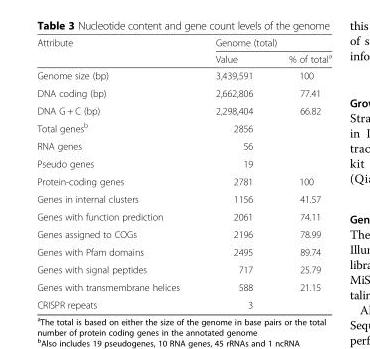table: (36, 36, 331, 310)
table column: (36, 36, 196, 310), (196, 36, 270, 310), (270, 36, 331, 310)
table column header: (36, 36, 331, 66)
table row: (36, 66, 331, 84), (36, 118, 331, 136), (36, 136, 331, 154), (36, 154, 331, 172), (36, 189, 331, 207), (36, 207, 331, 225), (36, 242, 331, 260), (36, 260, 331, 278), (36, 49, 331, 66), (36, 84, 331, 101), (36, 101, 331, 118), (36, 172, 331, 189), (36, 225, 331, 242), (36, 278, 331, 295), (36, 295, 331, 310), (36, 36, 331, 49)
table spanning cell: (36, 36, 196, 66), (196, 36, 331, 49)
